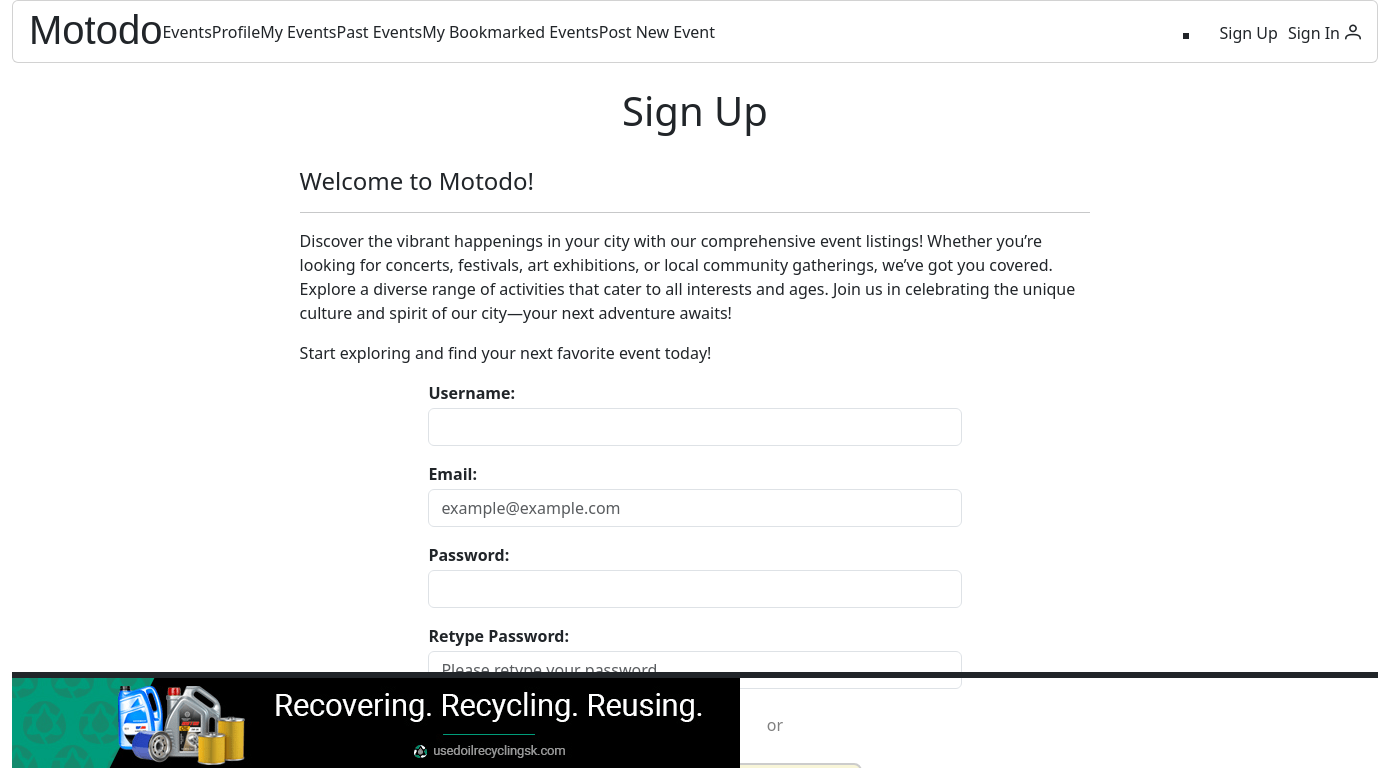
Test: Registration Page Test › displays error message upon unsuccessful registration
Note: Fill in the registration form
Step 1. Type "testuser" into the 1st field → (695, 427), box [428, 408, 961, 446]
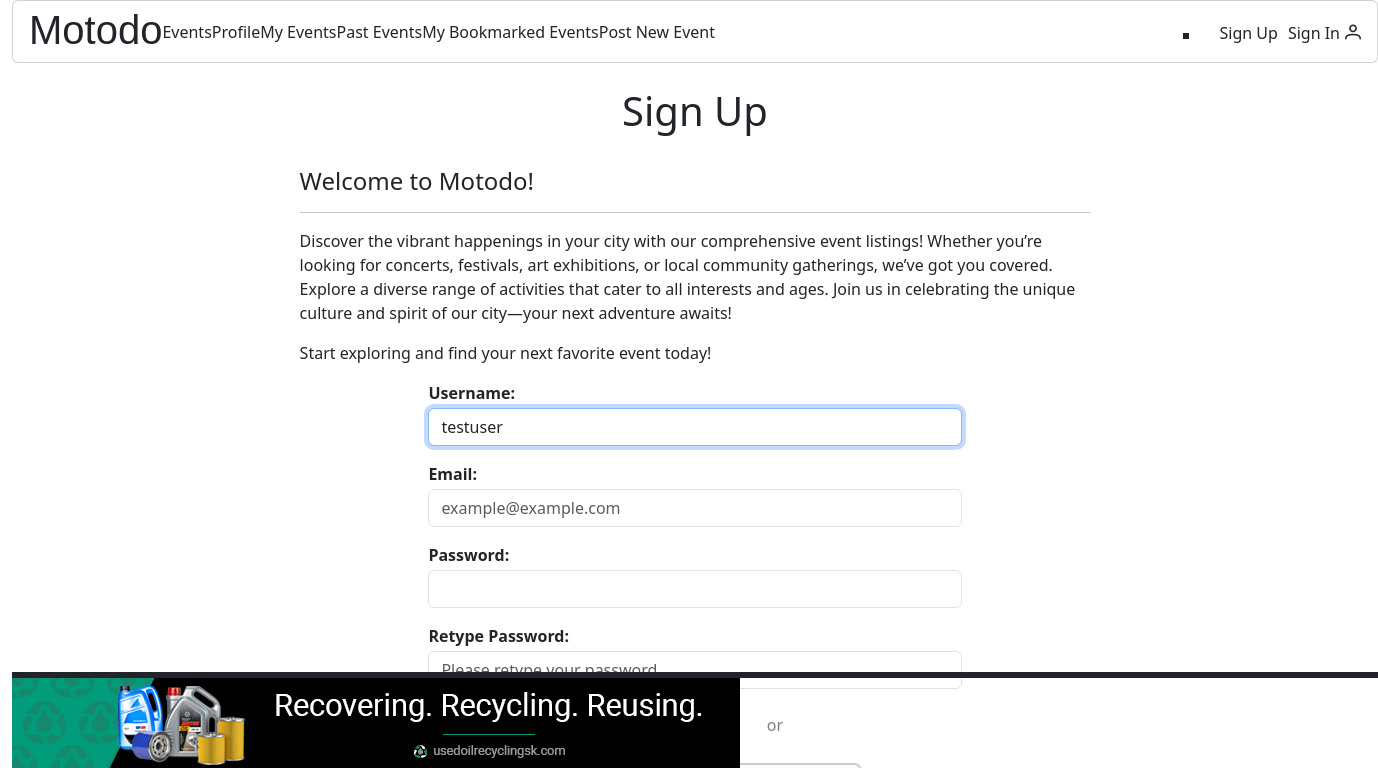
Step 2. Type "test@example.com" into the field with placeholder "example@example.com" → (695, 508), box [428, 489, 961, 527]
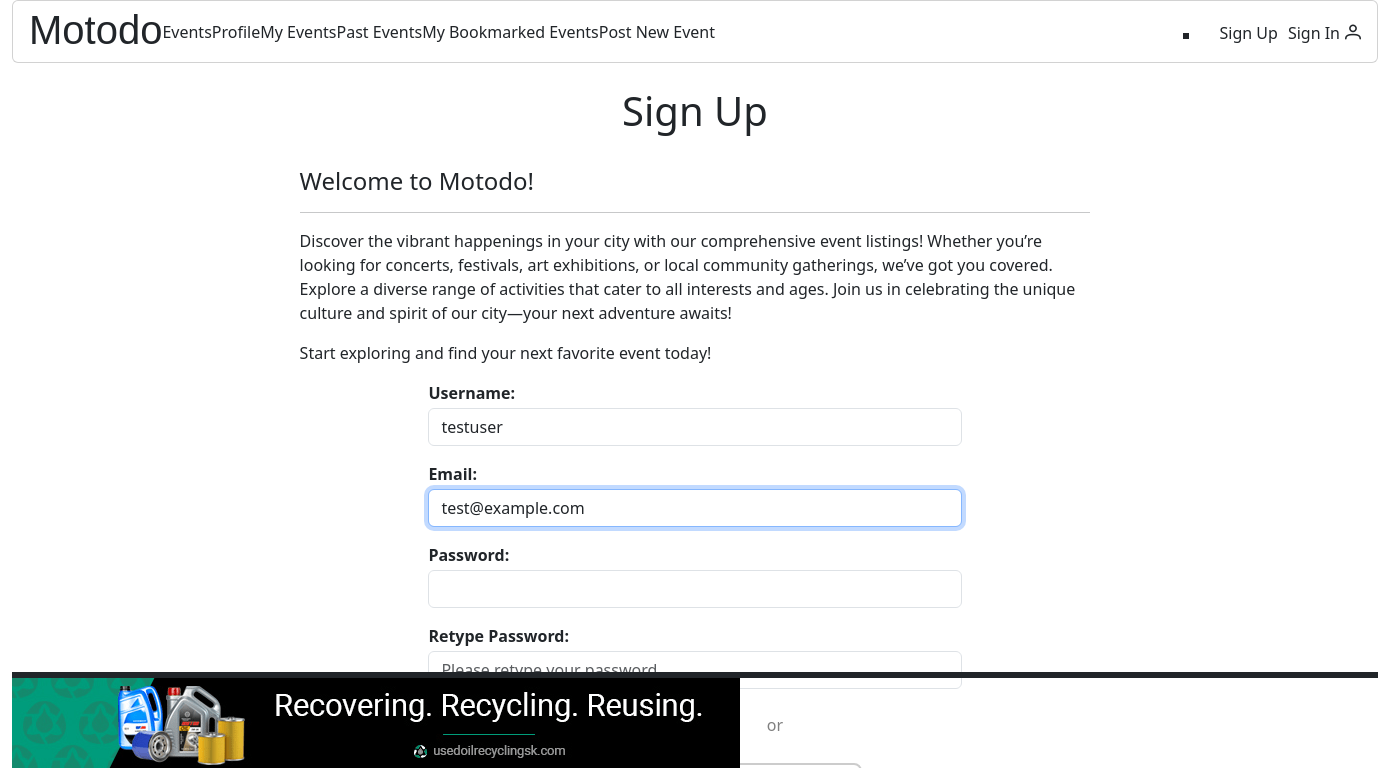
Step 3. Type "Password" into the 1st password field → (695, 589), box [428, 570, 961, 608]
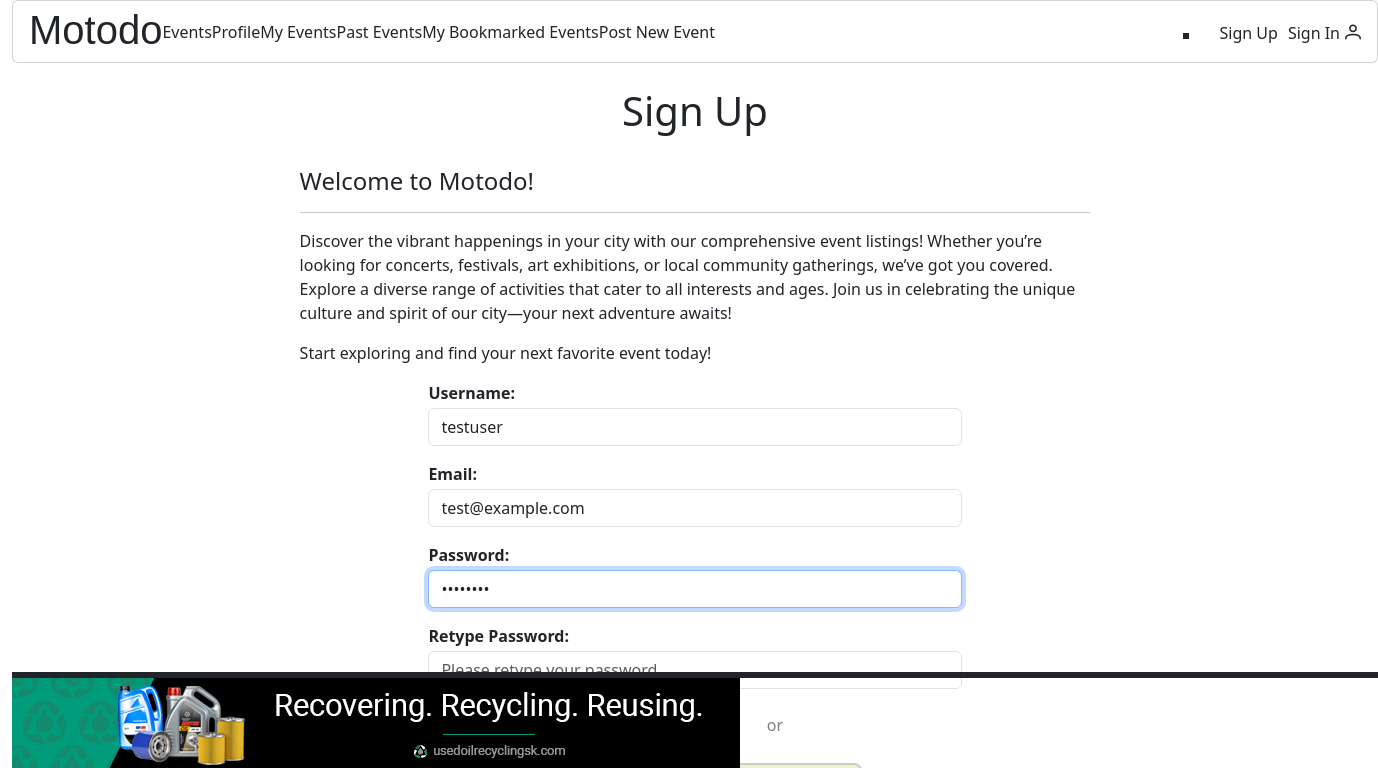
Step 4. Type "Password" into the password field with placeholder "Please retype your password" → (695, 670), box [428, 651, 961, 689]
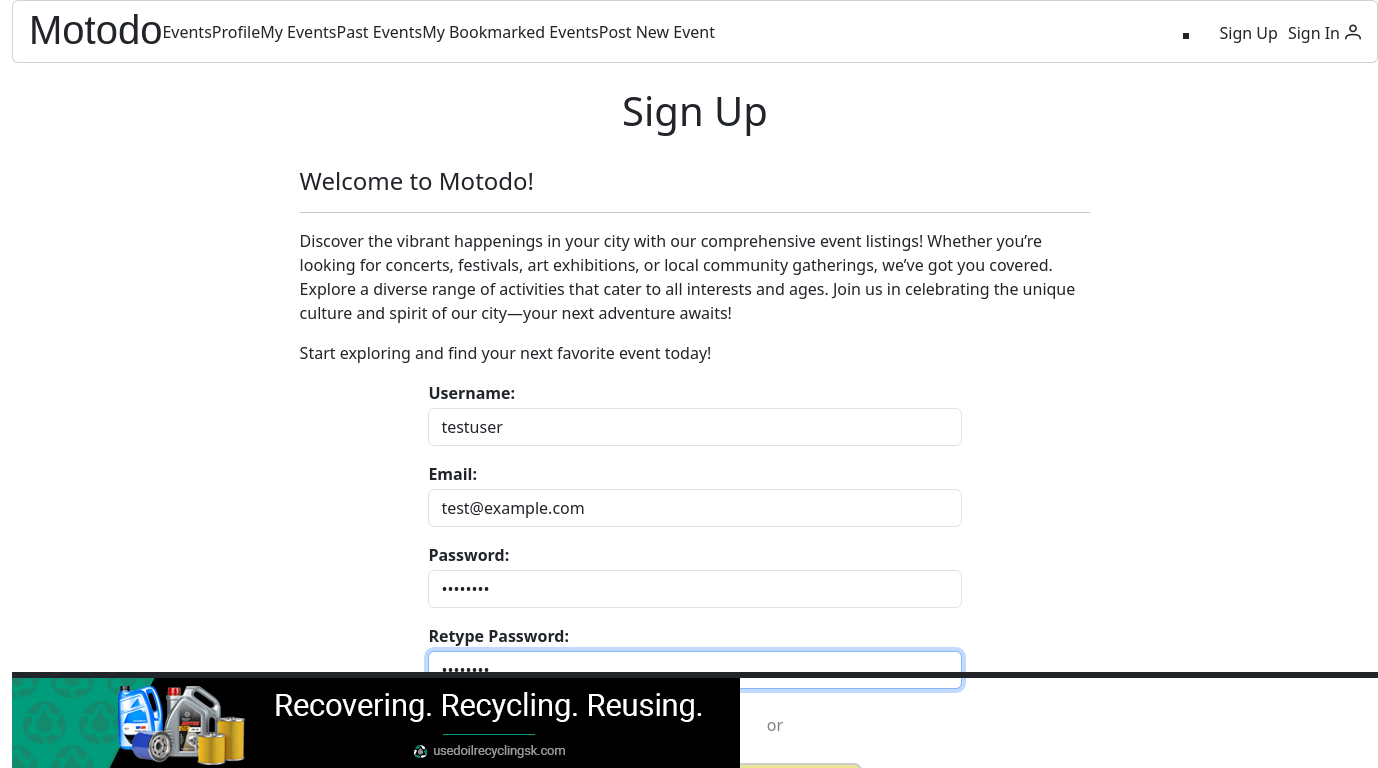
Step 5. Scroll
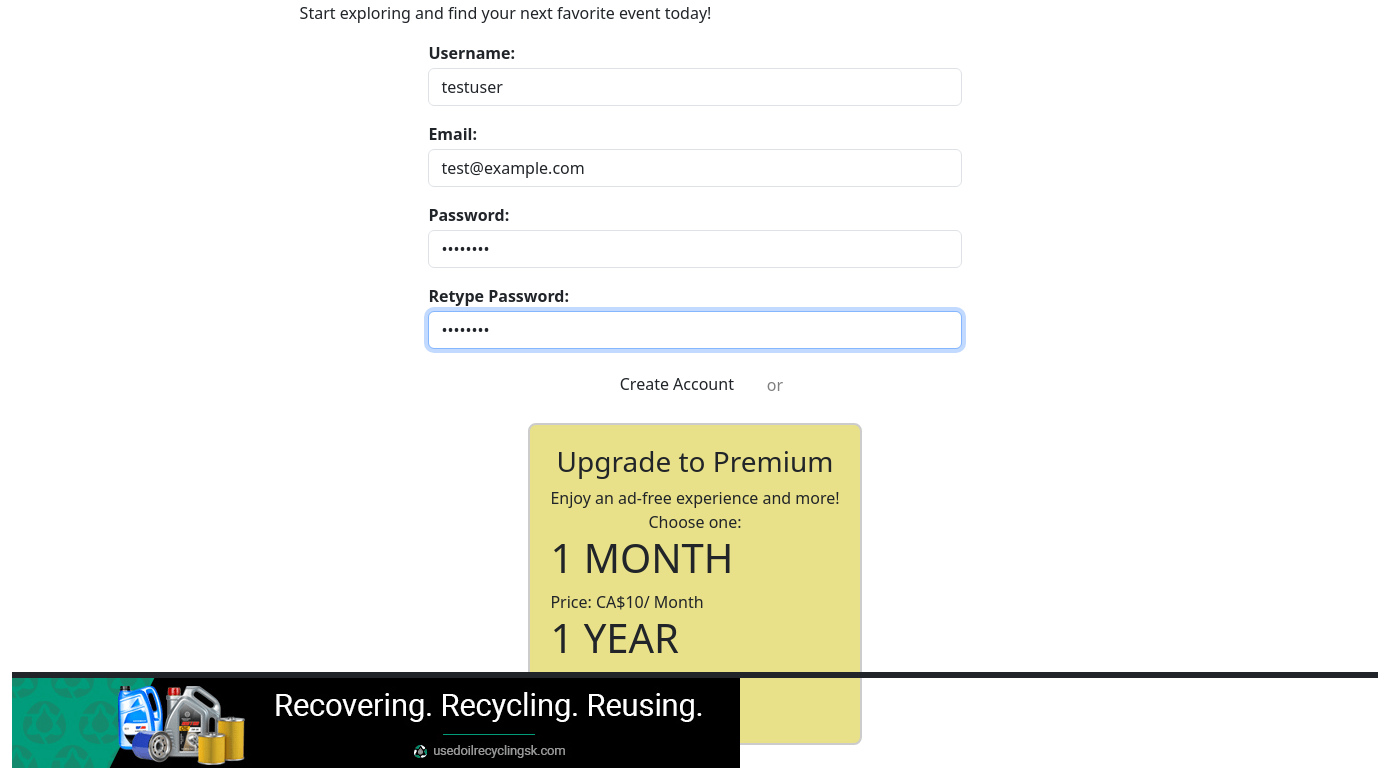
Note: Submit the form
Step 6. Click the submit button → (677, 384), box [597, 365, 757, 403]
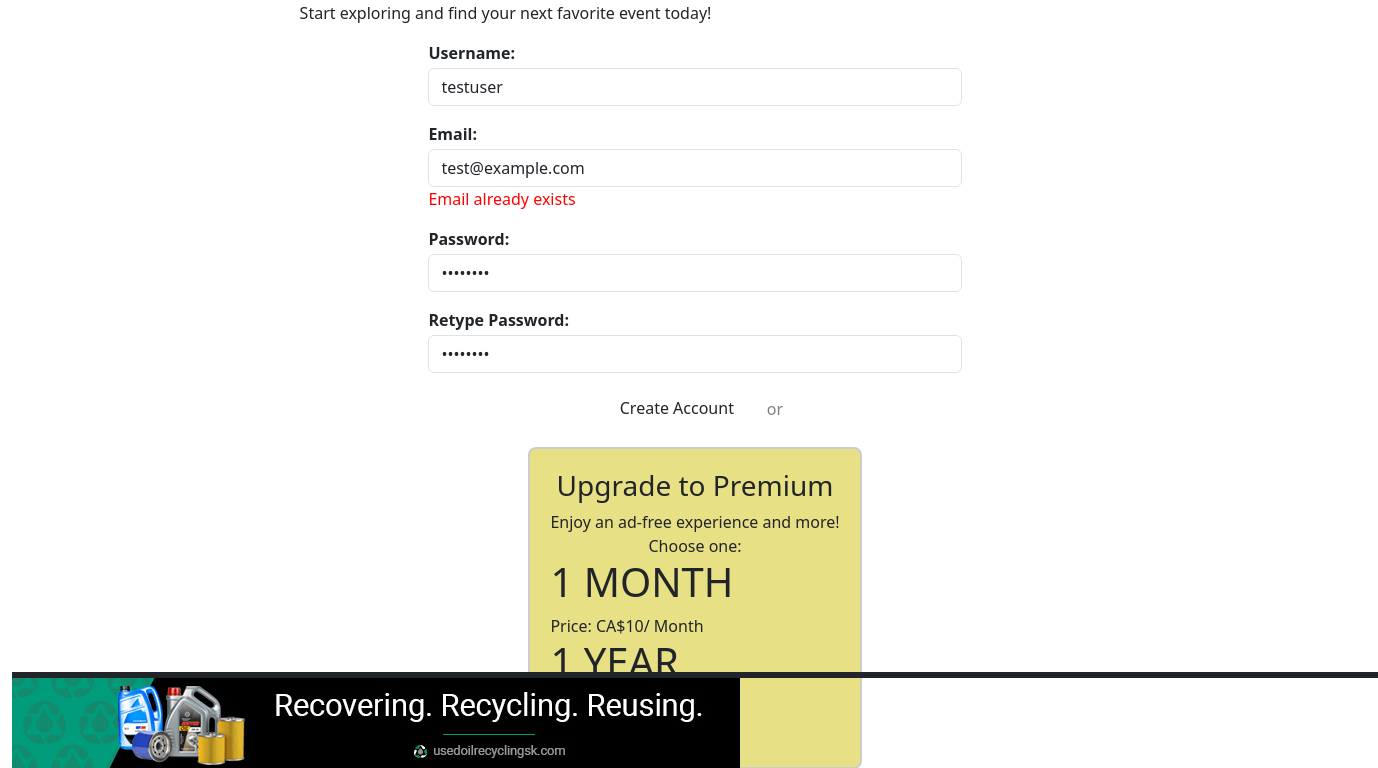
Now the text "Email already exists" is shown, box [428, 188, 576, 210]
Now the text with class "error" reads "Email already exists", box [428, 188, 575, 210]
